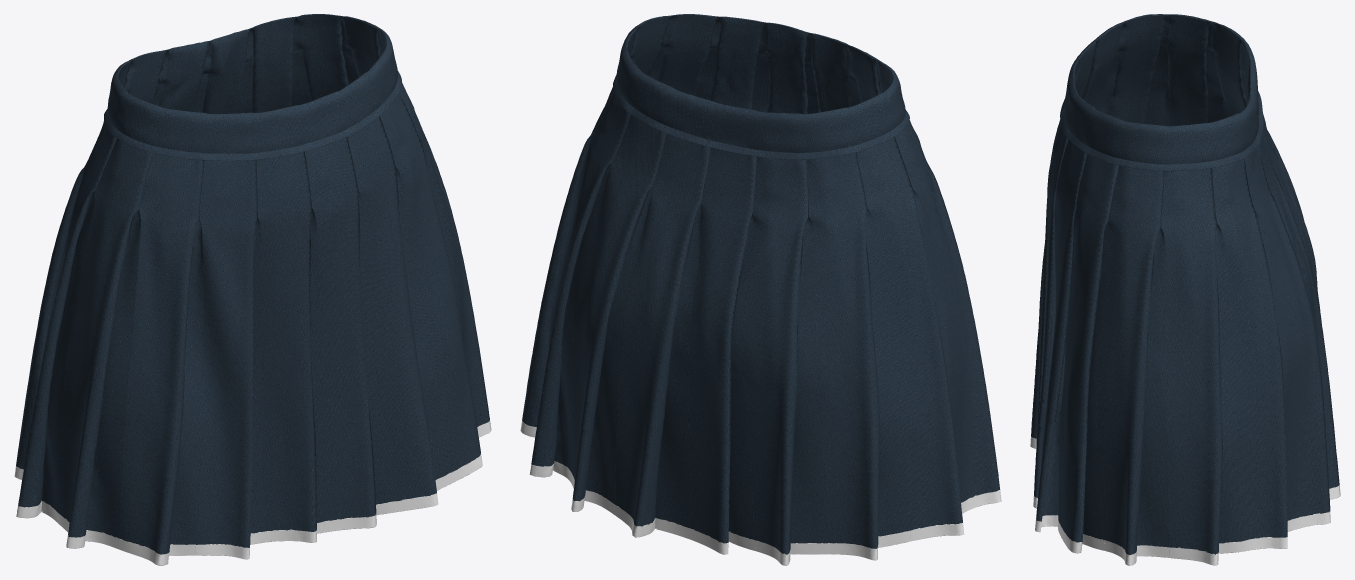
Rendered from pleated_skirt.glb.
3 renders of one model, left to right at view 1: azimuth 30°, elevation 25°; view 2: azimuth 150°, elevation 25°; view 3: azimuth 270°, elevation 25°, orthographic. The views are drawn at different scales.
Parts seen in each view (by area): view 1: Pleated Skirt; view 2: Pleated Skirt; view 3: Pleated Skirt.
Boxes of the visible parts, <box> form: Pleated Skirt: <box>14,14,491,565</box>; Pleated Skirt: <box>520,14,1001,565</box>; Pleated Skirt: <box>1030,14,1340,565</box>.
Size of the model in its own units: 425 by 401 by 270.
3 materials, 2 textured.
